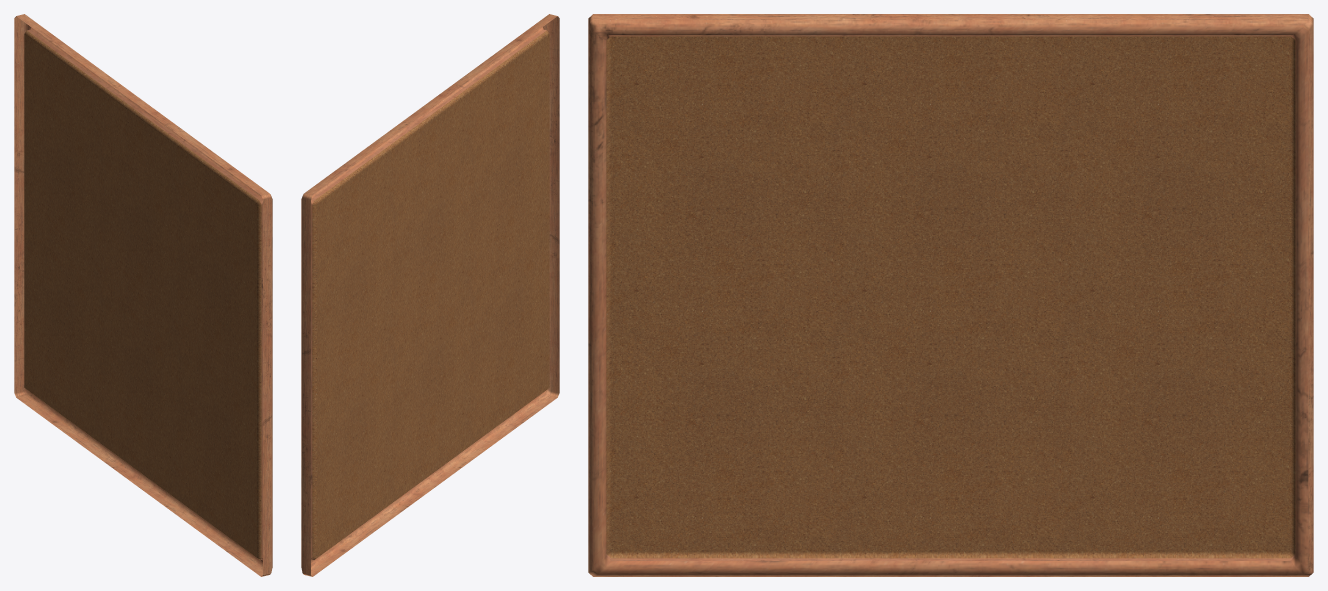
The model's file is SM_Panel_1.fbx.
The picture shows the model from 3 angles, left to right: view 1: azimuth 30°, elevation 25°; view 2: azimuth 150°, elevation 25°; view 3: azimuth 270°, elevation 25°; orthographic projection. The views are drawn at different scales.
Parts seen in each view (by area): view 1: SM_Panel_1_LOD0; view 2: SM_Panel_1_LOD0; view 3: SM_Panel_1_LOD0.
Part boxes in pixels (x1,y1,x2,y2): SM_Panel_1_LOD0: (14, 14, 272, 576); SM_Panel_1_LOD0: (301, 14, 559, 576); SM_Panel_1_LOD0: (588, 14, 1313, 576).
Bounding box in the file's own units: 4.2 × 159 × 135.
1 material, 1 textured.
